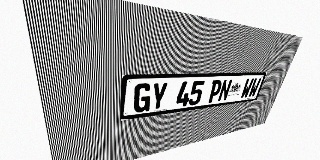4: (175, 81, 193, 107)
5: (188, 80, 205, 106)
G: (133, 83, 152, 113)
N: (217, 79, 233, 102)
P: (207, 80, 223, 103)
W: (247, 78, 262, 98), (240, 78, 254, 99)
Y: (150, 82, 168, 111)
